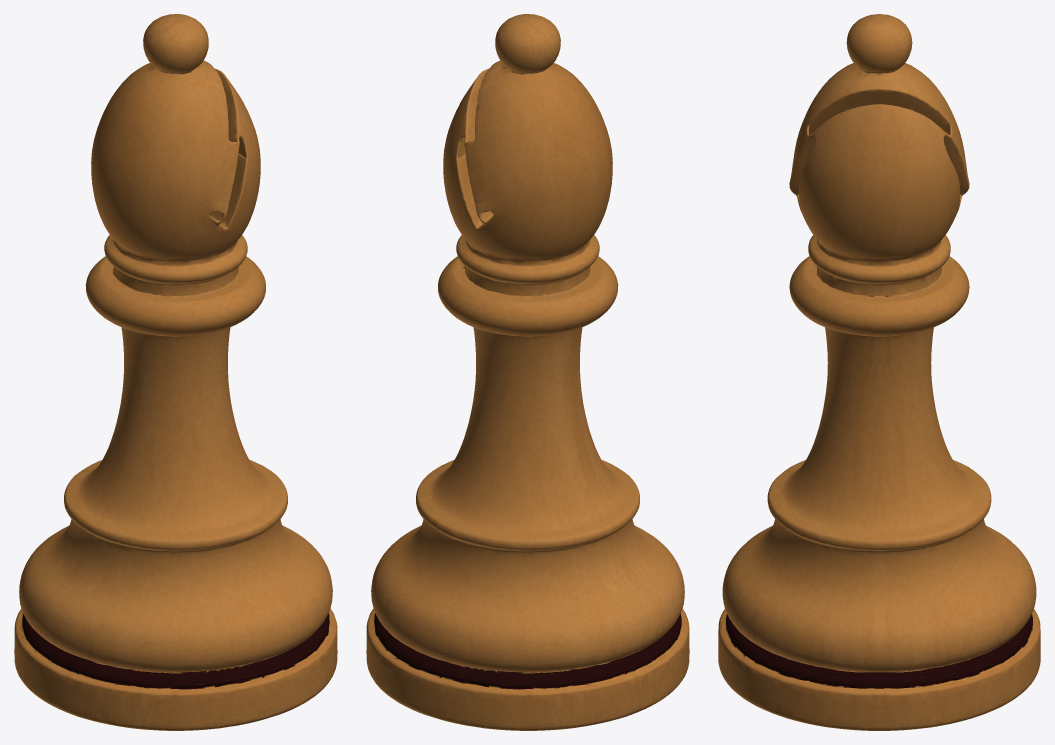
File: 05_bishop_light.glb
3 renders of one model, left to right at view 1: azimuth 30°, elevation 25°; view 2: azimuth 150°, elevation 25°; view 3: azimuth 270°, elevation 25°, orthographic.
Parts seen in each view (by area): view 1: world; view 2: world; view 3: world.
Boxes of the visible parts, x1,y1,x2,y2 form: world: [14, 14, 337, 730]; world: [366, 14, 689, 730]; world: [718, 14, 1040, 730].
Size of the model in its own units: 0.4535 by 1 by 0.4532.
1 material, 1 textured.
